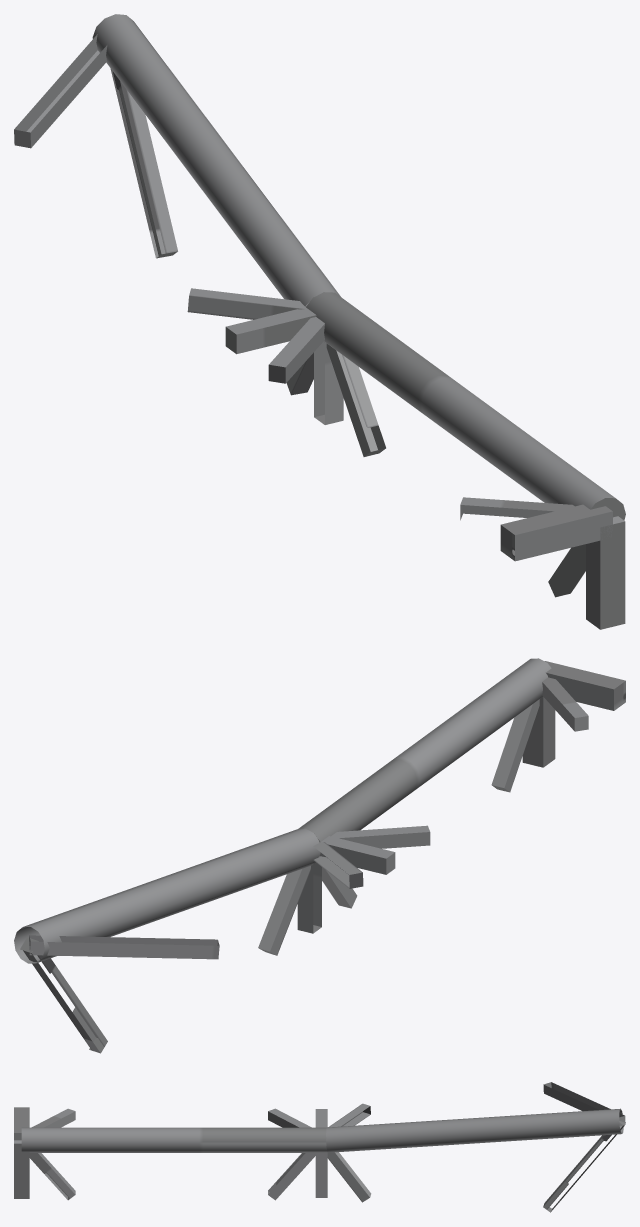
3 views of the same model, one above another, from view 1: azimuth 30°, elevation 25°; view 2: azimuth 150°, elevation 25°; view 3: azimuth 270°, elevation 25° (orthographic). The views are drawn at different scales.
Size of the model in its own units: 0.4731 by 0.4726 by 2.5.
